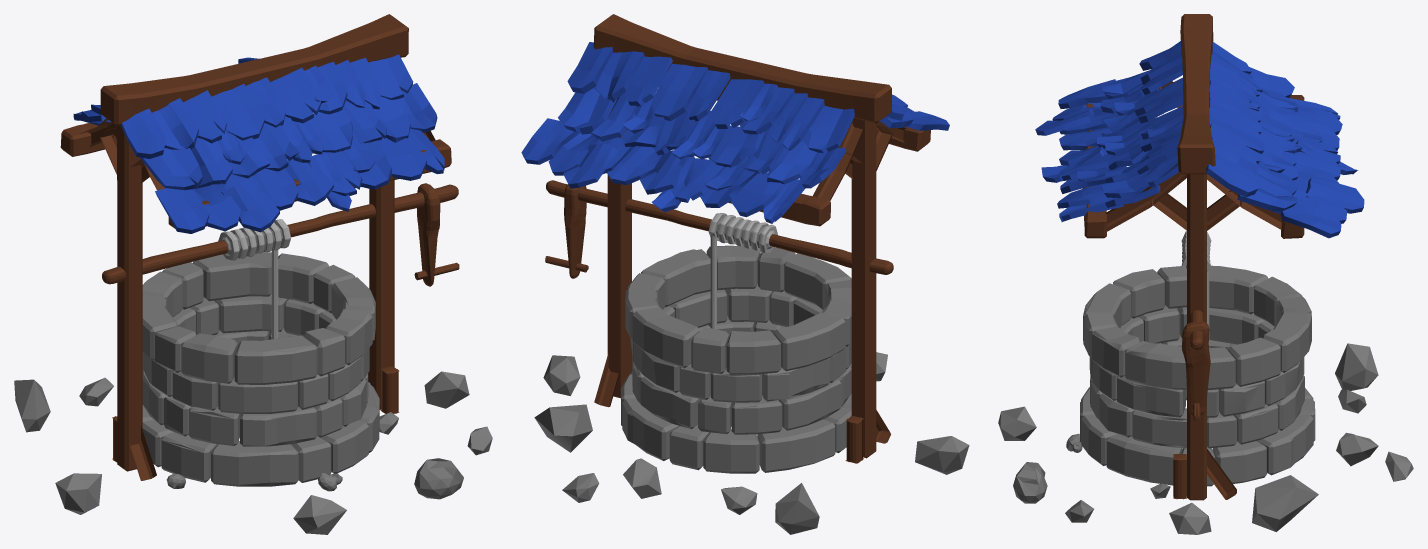
The model's file is Well.fbx.
3 views of the same model, side by side, from view 1: azimuth 30°, elevation 25°; view 2: azimuth 150°, elevation 25°; view 3: azimuth 270°, elevation 25° (orthographic). The views are drawn at different scales.
Parts seen in each view (by area): view 1: Well; view 2: Well; view 3: Well.
Part boxes in pixels (box(x1,y1,x2,y2)): Well: box(14, 14, 492, 534); Well: box(521, 14, 969, 534); Well: box(998, 14, 1413, 534).
Size of the model in its own units: 245 by 229 by 225.
